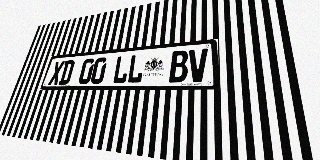0: (90, 57, 108, 84), (77, 58, 95, 84)
B: (169, 50, 188, 83)
D: (58, 60, 75, 85)
L: (126, 54, 145, 83), (112, 55, 130, 84)
V: (188, 48, 208, 82)
X: (48, 61, 65, 85)
